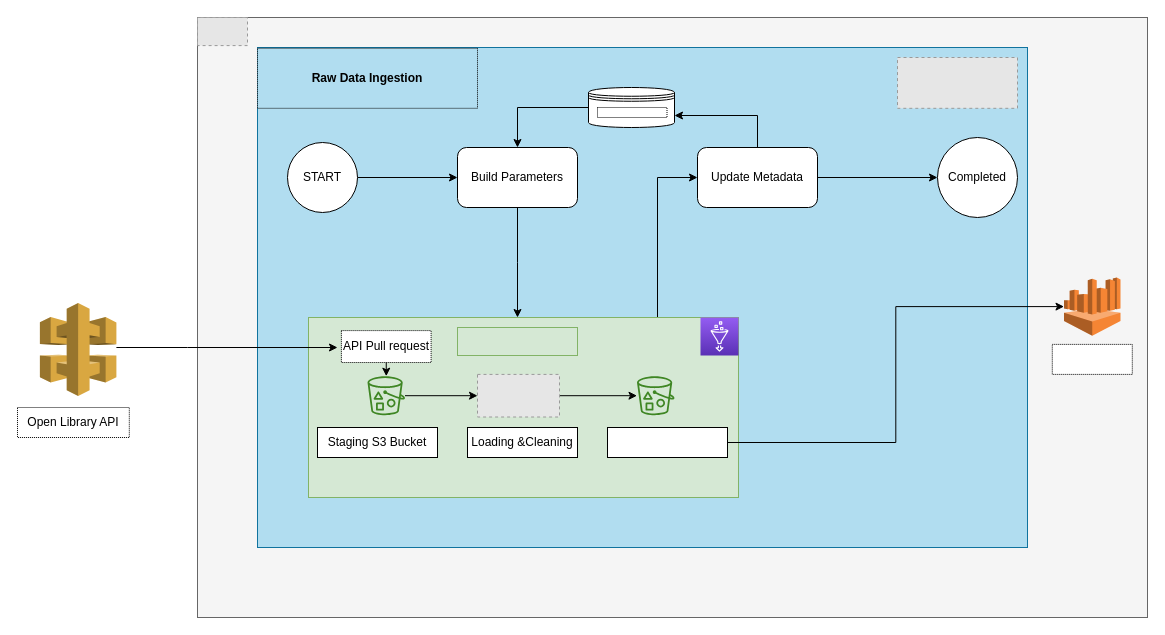
This 1165x635 diagram has some shape labels left out. Grey dashed boxes stand in for pictures. Here are the shapes that lost their labels. From the top down, the box of each, then its label:
(588, 86, 674, 128): Meta-store
(456, 326, 578, 356): AWS Glue Job
(1051, 343, 1132, 374): Athena
(606, 426, 728, 458): Cleaned S3 Bucket
